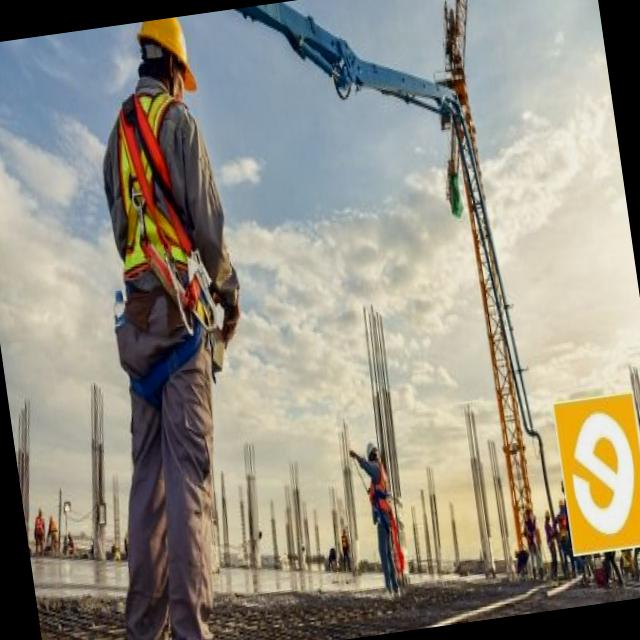helmet: (133, 15, 208, 100)
vest: (84, 97, 222, 297), (361, 453, 396, 529)
